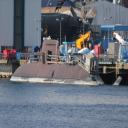submarine: (10, 41, 124, 87)
